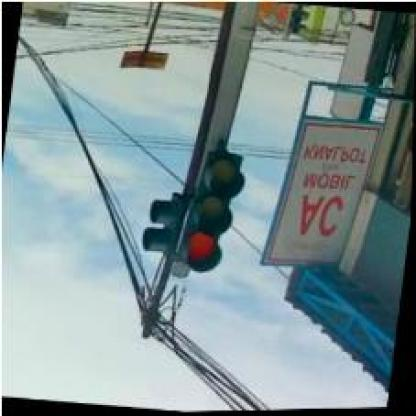red: (172, 148, 249, 278)
